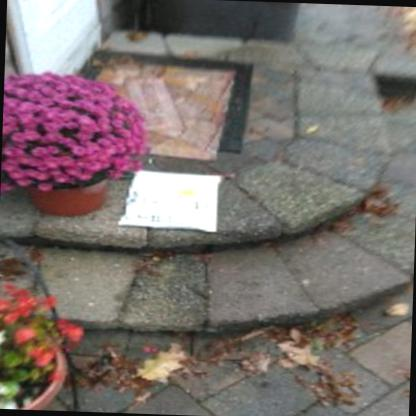plastic_bag: (117, 171, 225, 232)
